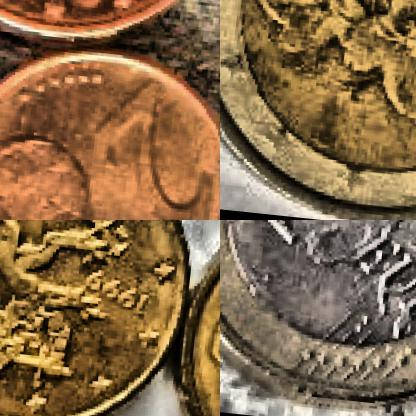coin: (220, 0, 415, 219), (0, 220, 210, 415), (0, 36, 219, 219), (220, 220, 415, 415)
